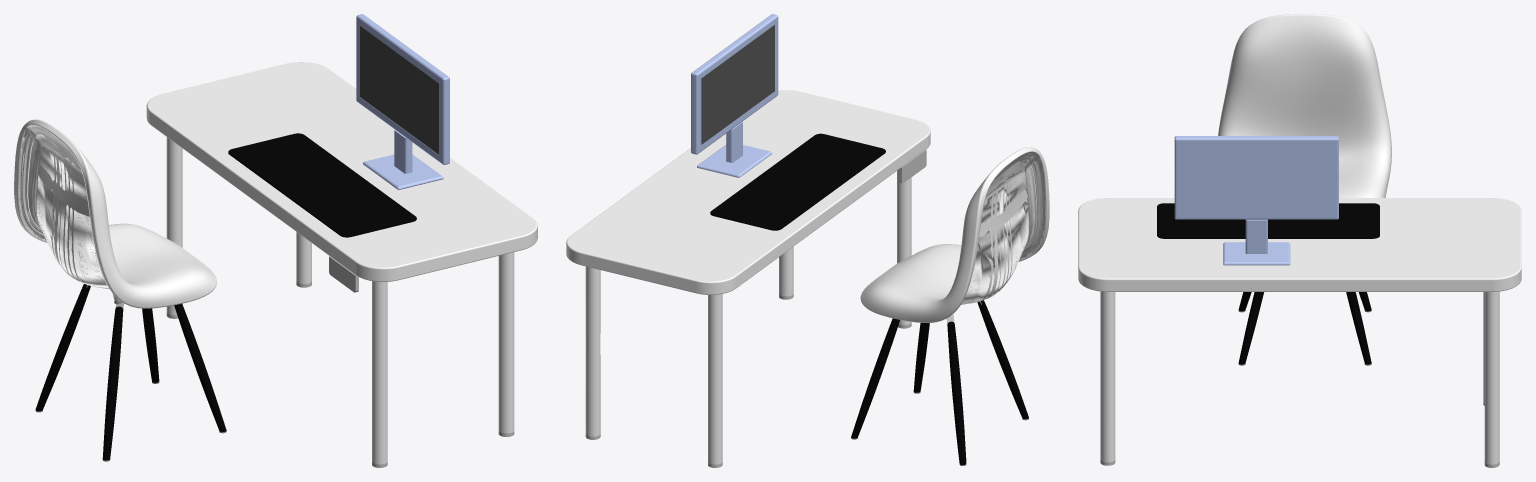
File: myhome.glb
The picture shows the model from 3 angles, left to right: view 1: azimuth 30°, elevation 25°; view 2: azimuth 150°, elevation 25°; view 3: azimuth 270°, elevation 25°; orthographic projection. The views are drawn at different scales.
Visible parts, largest first — view 1: desk_top.001, Chair body_thick, Body4.003, Chair body.001, Body3.003, monitor_top.001, desk_leg1.001, Body4.001, Body3.001, Leg (3), monitor_bottom.001, Leg (+5 smaller); view 2: desk_top.001, Chair body_thick, Body4.003, Chair body.001, Body3.003, monitor_top.001, Body2.001, Body3.001, Leg (2), monitor_bottom.001, Body4.001, chair_leg.001 (+4 smaller); view 3: desk_top.001, Chair body_thick, monitor_top.001, Body4.003, Body2.001, desk_leg1.001, monitor_bottom.001, monitor_top (1).001, chair_leg.001, Leg.
Part boxes in pixels (<box>): desk_top.001: <box>146,62,537,281</box>; Chair body_thick: <box>14,119,216,308</box>; Body4.003: <box>228,133,416,237</box>; Chair body.001: <box>17,124,113,294</box>; Body3.003: <box>360,26,438,154</box>; monitor_top.001: <box>356,14,449,164</box>; desk_leg1.001: <box>498,252,514,433</box>; Body4.001: <box>372,281,387,464</box>; Body3.001: <box>166,137,182,315</box>; Leg (3): <box>102,306,123,460</box>; monitor_bottom.001: <box>363,154,443,189</box>; Leg: <box>174,303,226,431</box>; desk_top.001: <box>566,90,930,294</box>; Chair body_thick: <box>860,147,1049,322</box>; Body4.003: <box>710,133,885,230</box>; Chair body.001: <box>958,151,1046,308</box>; Body3.003: <box>701,25,774,144</box>; monitor_top.001: <box>691,14,778,154</box>; Body2.001: <box>585,266,600,436</box>; Body3.001: <box>708,294,722,464</box>; Leg (2): <box>947,321,966,464</box>; monitor_bottom.001: <box>697,145,772,177</box>; Body4.001: <box>897,169,911,325</box>; chair_leg.001: <box>851,318,899,438</box>; desk_top.001: <box>1078,198,1521,291</box>; Chair body_thick: <box>1218,14,1391,197</box>; monitor_top.001: <box>1174,136,1338,219</box>; Body4.003: <box>1157,203,1379,238</box>; Body2.001: <box>1484,291,1499,464</box>; desk_leg1.001: <box>1100,291,1115,462</box>; monitor_bottom.001: <box>1223,242,1290,265</box>; monitor_top (1).001: <box>1245,219,1267,253</box>; chair_leg.001: <box>1346,292,1371,364</box>; Leg: <box>1238,292,1263,364</box>.
Size of the model in its own units: 0.0697 by 0.0597 by 0.0759.
